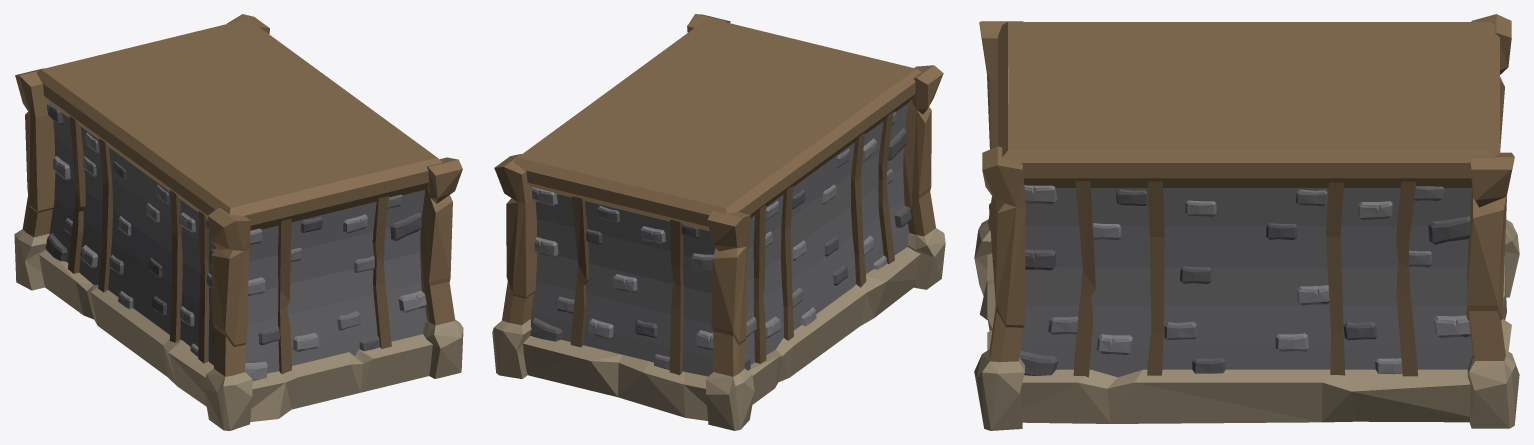
File: SM_Bld_House_FoundationRock_01.gltf
The picture shows the model from 3 angles, left to right: view 1: azimuth 30°, elevation 25°; view 2: azimuth 150°, elevation 25°; view 3: azimuth 270°, elevation 25°; orthographic projection. The views are drawn at different scales.
Visible parts, largest first — view 1: SM_Bld_House_FoundationRock_01; view 2: SM_Bld_House_FoundationRock_01; view 3: SM_Bld_House_FoundationRock_01.
Boxes of the visible parts, x1,y1,x2,y2 form: SM_Bld_House_FoundationRock_01: [14, 14, 463, 430]; SM_Bld_House_FoundationRock_01: [492, 14, 945, 430]; SM_Bld_House_FoundationRock_01: [974, 14, 1519, 430].
Size of the model in its own units: 3.46 by 2.81 by 5.15.
Materials: 1 (1 with a texture image).
